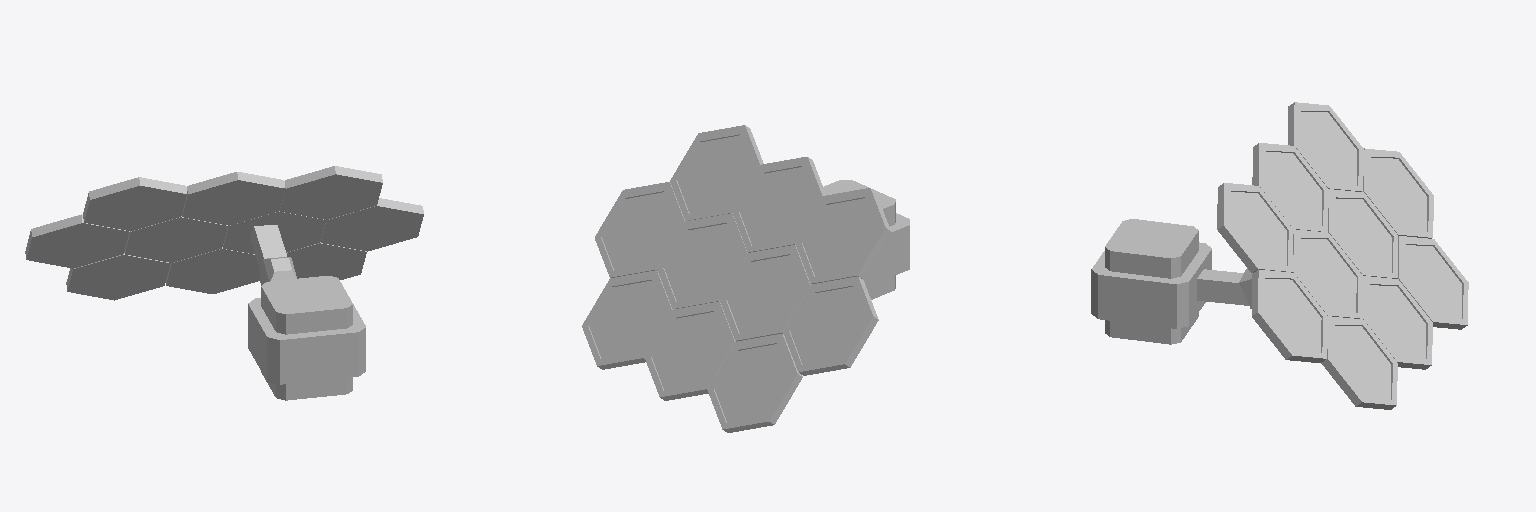
The model's file is tower_panels.obj.
3 renders of one model, left to right at view 1: azimuth 30°, elevation 25°; view 2: azimuth 150°, elevation 25°; view 3: azimuth 270°, elevation 25°, orthographic.
Visible parts, largest first — view 1: solarpanels; view 2: solarpanels; view 3: solarpanels.
Boxes of the visible parts, box(x1,y1,x2,y2) form: solarpanels: box(25, 166, 423, 400); solarpanels: box(582, 125, 909, 432); solarpanels: box(1091, 102, 1468, 409).
Bounding box in the file's own units: 23.99 × 13.75 × 23.42.